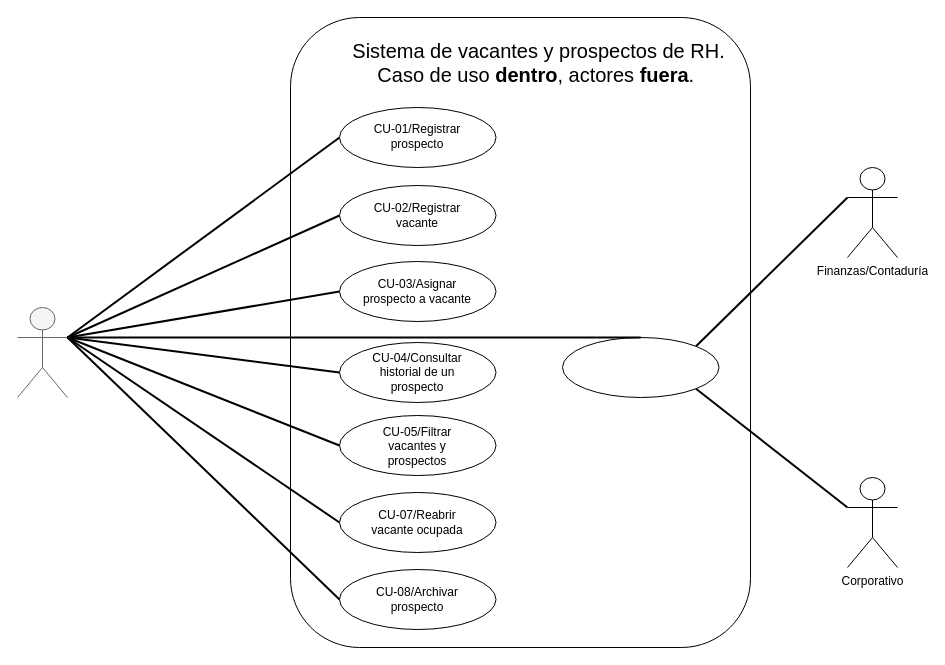
Image size: 945x665. Some labels were removed from this diagram. The centre of each missing label's shape, as x and y in pixels:
CU-06/Consultar estatus de vacantes: the point at 640,367
RH: the point at 42,352
